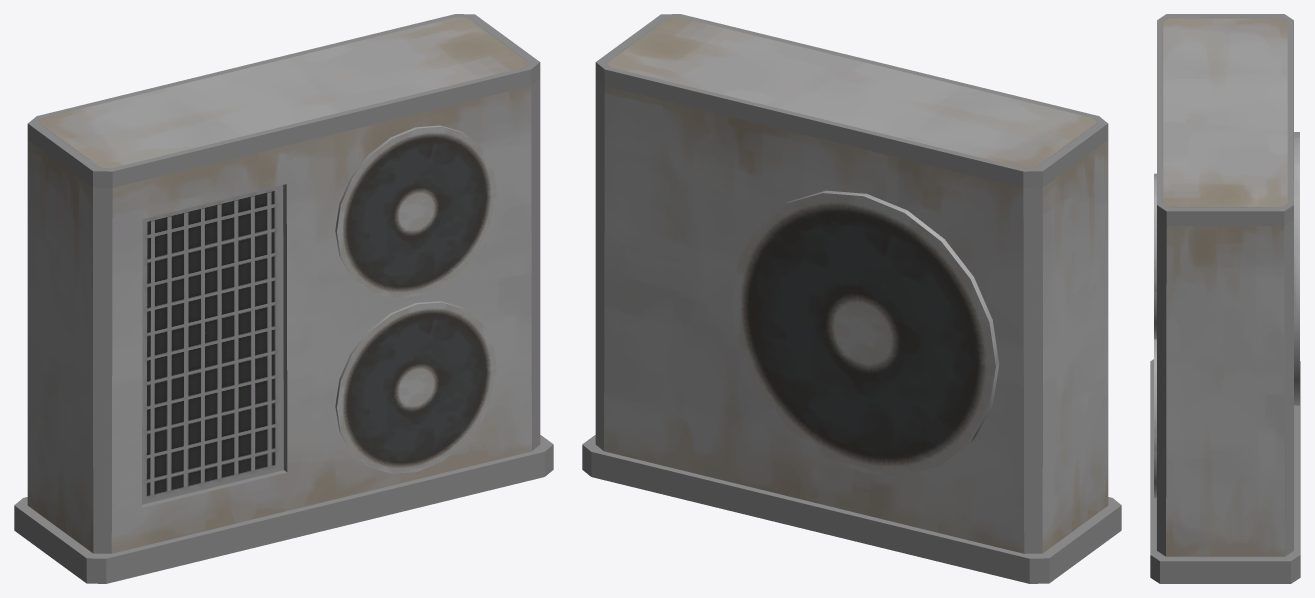
3 renders of one model, left to right at view 1: azimuth 30°, elevation 25°; view 2: azimuth 150°, elevation 25°; view 3: azimuth 270°, elevation 25°, orthographic. The views are drawn at different scales.
Visible parts, largest first — view 1: SM_AC03; view 2: SM_AC03; view 3: SM_AC03.
Boxes of the visible parts, box(x1,y1,x2,y2) form: SM_AC03: box(14, 14, 553, 583); SM_AC03: box(582, 14, 1121, 583); SM_AC03: box(1150, 14, 1300, 583).
Bounding box in the file's own units: 1.92 × 1.6 × 0.5915.
1 material, 1 textured.
